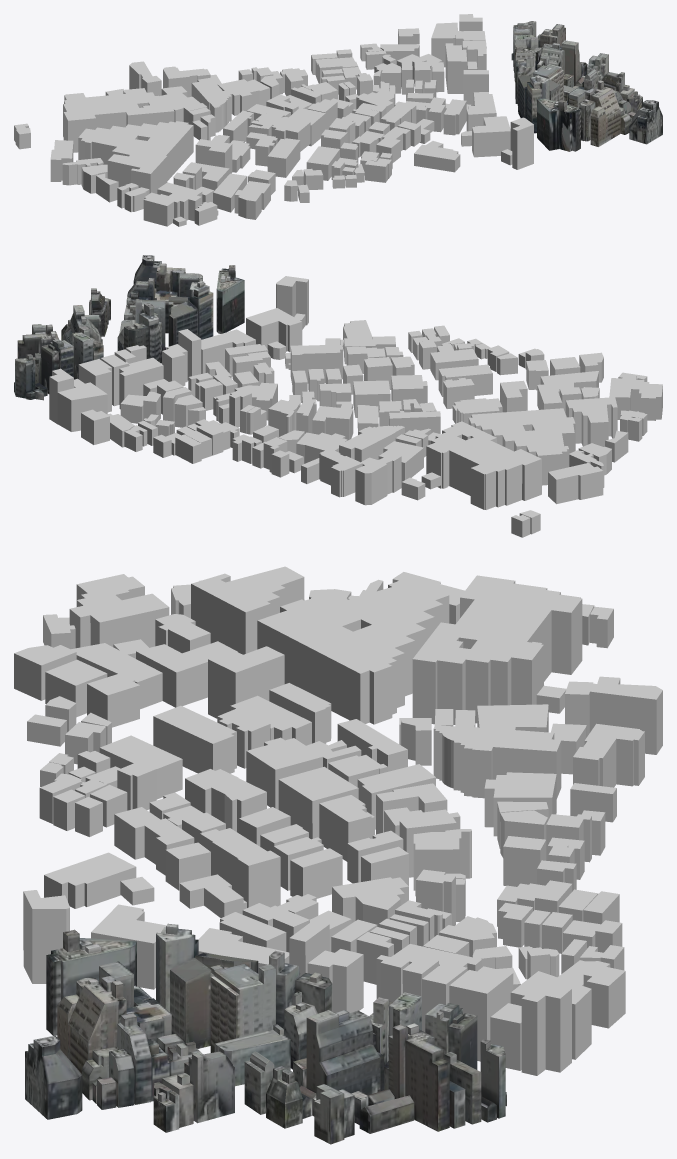
Rendered from building_1_4.glb.
3 renders of one model, top to bottom at view 1: azimuth 30°, elevation 25°; view 2: azimuth 150°, elevation 25°; view 3: azimuth 270°, elevation 25°, orthographic. The views are drawn at different scales.
Bounding box in the file's own units: 366 × 39.19 × 199.
2 materials, 1 textured.
